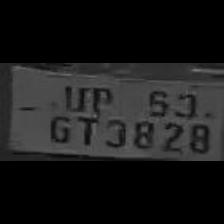2: (156, 118, 184, 152)
3: (99, 114, 127, 148), (170, 87, 198, 117)
5: (142, 87, 170, 115)
8: (184, 119, 211, 153), (127, 118, 155, 150)
G: (45, 110, 73, 144)
P: (83, 82, 113, 112)
T: (74, 112, 99, 144)
U: (57, 80, 85, 111)
